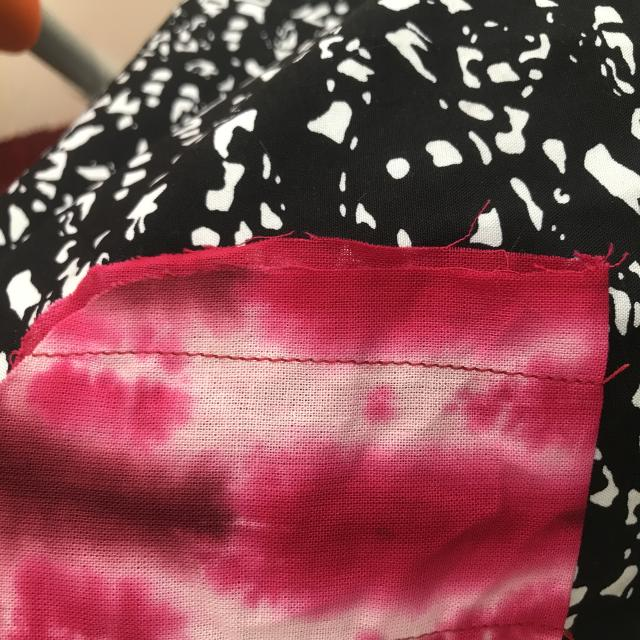good: (198, 343, 285, 371), (351, 350, 447, 375), (94, 342, 152, 364)
